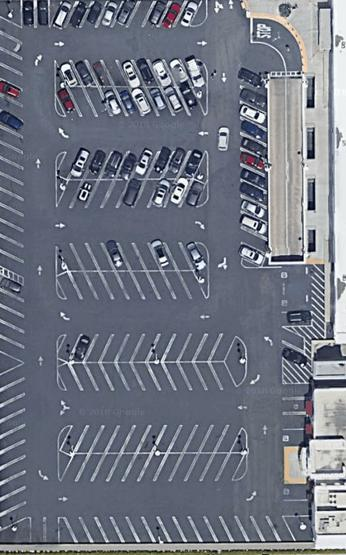parkingspot: (0, 16, 27, 280), (61, 514, 298, 544), (237, 67, 270, 268), (58, 423, 245, 457), (57, 331, 239, 364), (59, 452, 248, 483), (57, 361, 239, 393), (55, 86, 209, 119), (0, 361, 29, 532), (55, 149, 209, 181), (54, 241, 207, 273), (56, 270, 208, 302), (55, 178, 207, 210), (54, 57, 207, 88), (48, 0, 203, 29), (0, 273, 27, 366), (280, 383, 314, 449), (279, 325, 307, 369), (281, 483, 311, 519), (29, 515, 60, 545), (20, 0, 51, 30), (280, 310, 314, 327)
